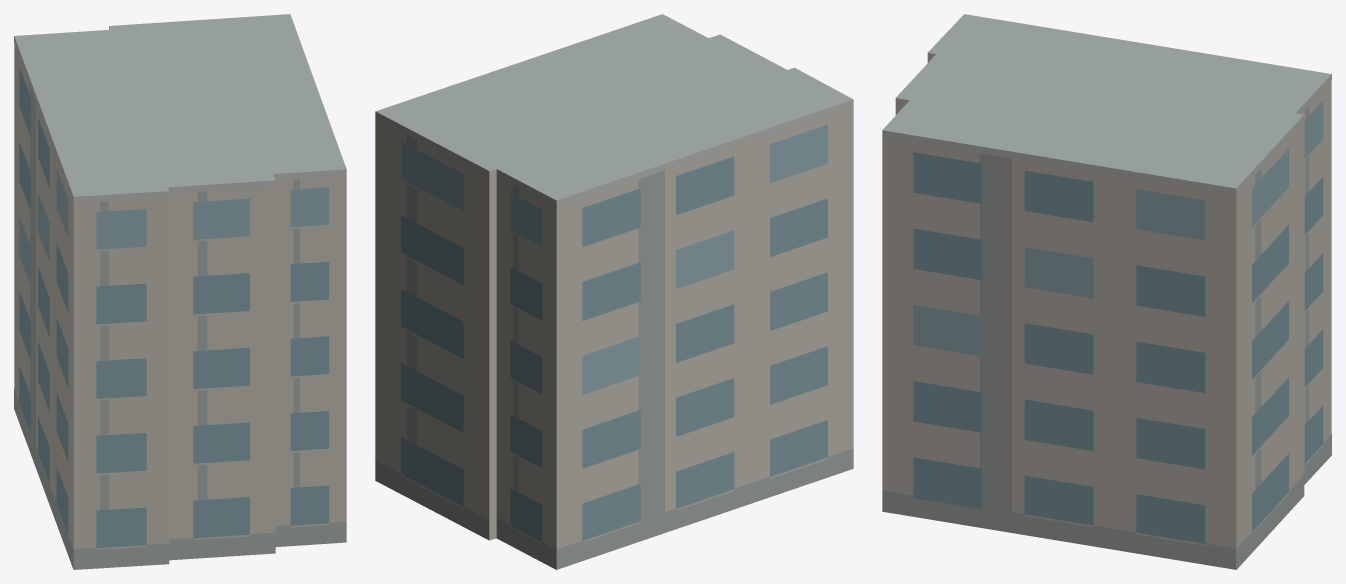
Rendered from survey-upis-33044508.glb.
The picture shows the model from 3 angles, left to right: view 1: azimuth 30°, elevation 25°; view 2: azimuth 150°, elevation 25°; view 3: azimuth 270°, elevation 25°; orthographic projection. The views are drawn at different scales.
Visible parts, largest first — view 1: survey-upis-33044508.tmp; view 2: survey-upis-33044508.tmp; view 3: survey-upis-33044508.tmp.
Part boxes in pixels (x1,y1,x2,y2): survey-upis-33044508.tmp: (14,14,346,569); survey-upis-33044508.tmp: (375,14,853,569); survey-upis-33044508.tmp: (882,14,1331,569).
Bounding box in the file's own units: 13.65 × 13.9 × 14.86.
